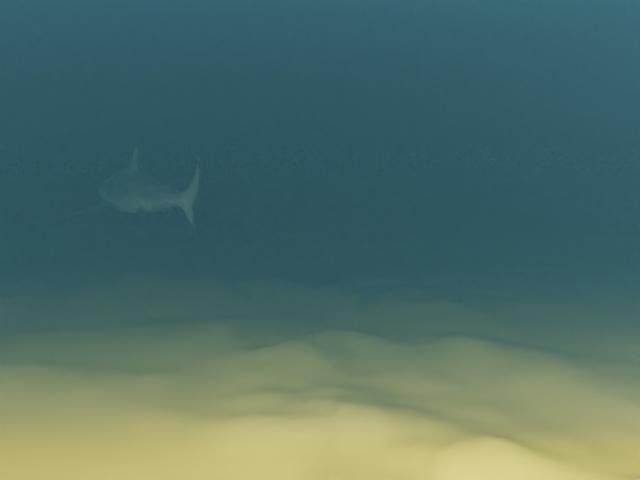Carribean Shark.001: (62, 140, 204, 233)
